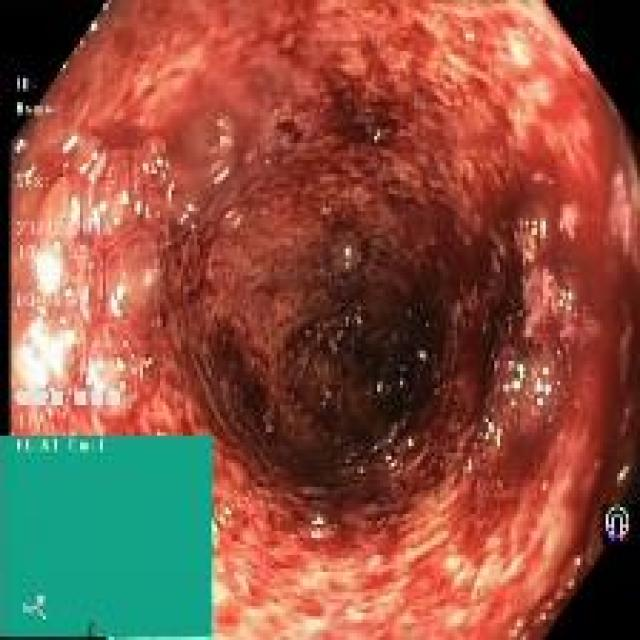ulcerative-colitis-grade-3: (11, 3, 640, 638)
